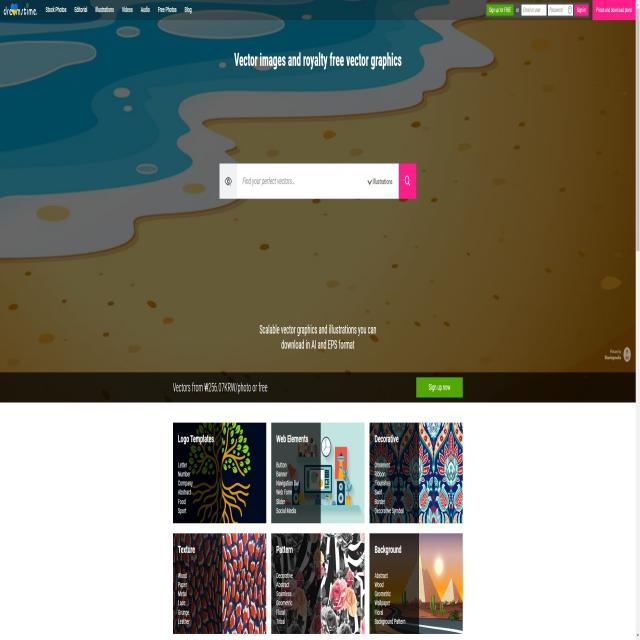search: (220, 162, 417, 201)
